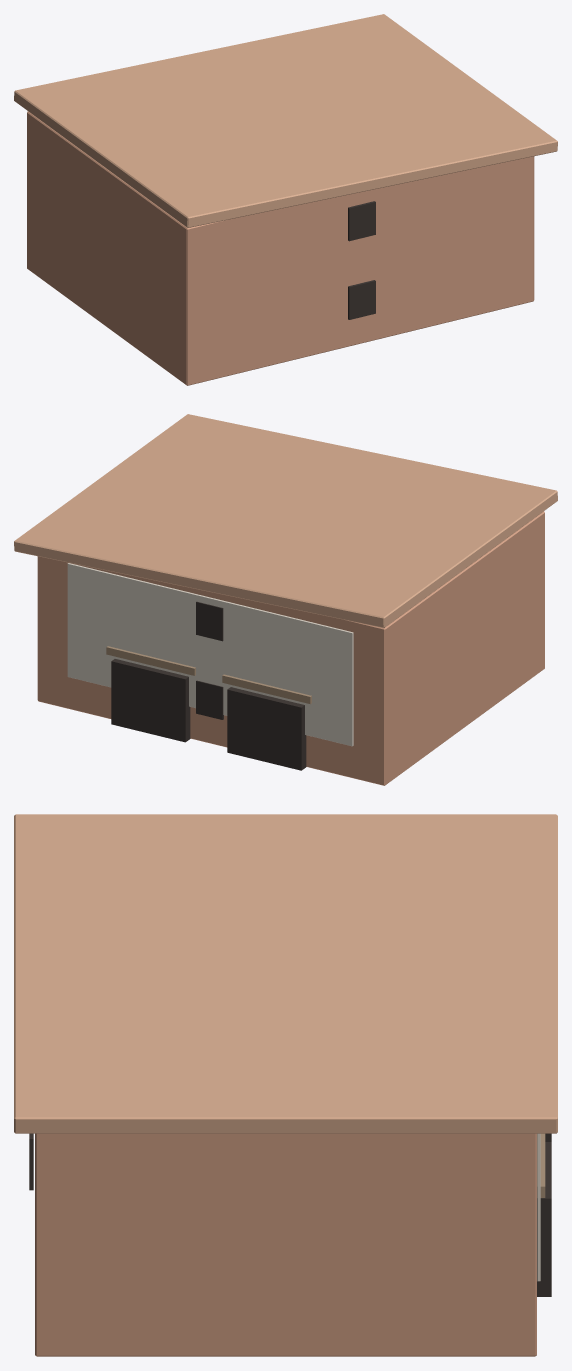
The model's file is insula_c.glb.
3 views of the same model, one above another, from view 1: azimuth 30°, elevation 25°; view 2: azimuth 150°, elevation 25°; view 3: azimuth 270°, elevation 25° (orthographic). The views are drawn at different scales.
Visible parts, largest first — view 1: body, roof, win_1_-1, win_0_-1; view 2: roof, body, bay, shop_1, shop_0, win_0_1, win_1_1, lintel_0, lintel_1; view 3: roof, body, shop_1.
Part boxes in pixels (bbox=[...]): body: bbox=[27, 111, 534, 385]; roof: bbox=[14, 14, 557, 227]; win_1_-1: bbox=[348, 201, 375, 241]; win_0_-1: bbox=[348, 280, 375, 319]; roof: bbox=[14, 414, 557, 627]; body: bbox=[37, 511, 544, 785]; bay: bbox=[67, 563, 353, 746]; shop_1: bbox=[111, 659, 190, 742]; shop_0: bbox=[227, 687, 306, 770]; win_0_1: bbox=[196, 680, 223, 719]; win_1_1: bbox=[196, 601, 223, 641]; lintel_0: bbox=[222, 674, 311, 704]; lintel_1: bbox=[106, 646, 195, 675]; roof: bbox=[14, 814, 557, 1133]; body: bbox=[35, 1133, 536, 1356]; shop_1: bbox=[537, 1142, 551, 1296].
Size of the model in its own units: 16 by 7.22 by 13.
